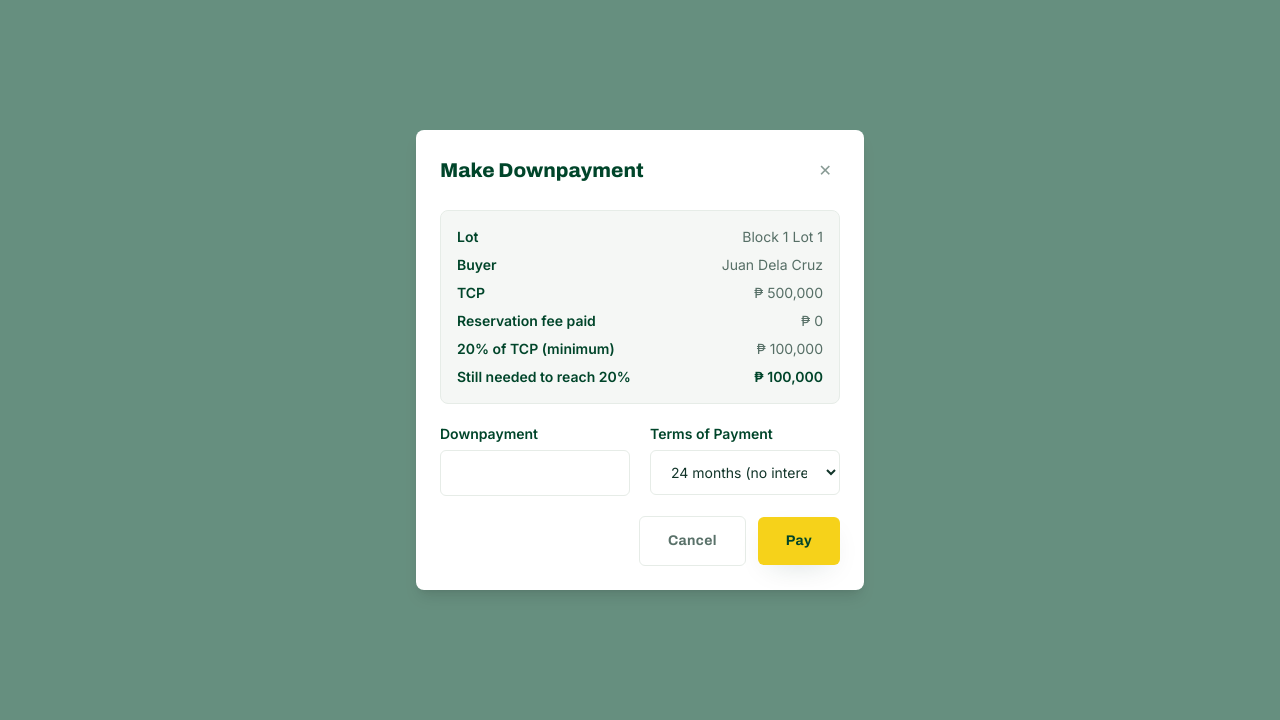
DownpaymentModal › requires terms of payment before saving
Type "100000" into the number field labelled "Downpayment" at (535, 473), box top-left (440, 450), bottom-right (630, 496)
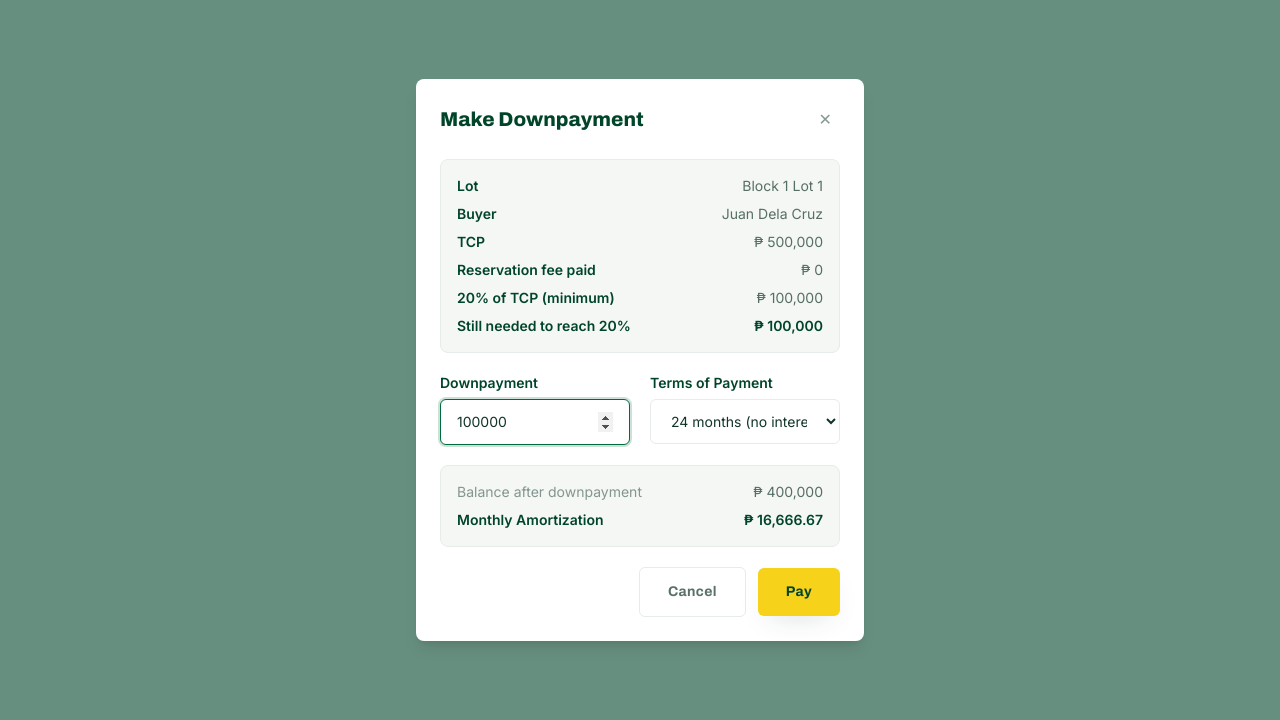
Select "Select terms…" in the dropdown labelled "Terms of Payment" at (745, 422), box top-left (650, 399), bottom-right (840, 444)
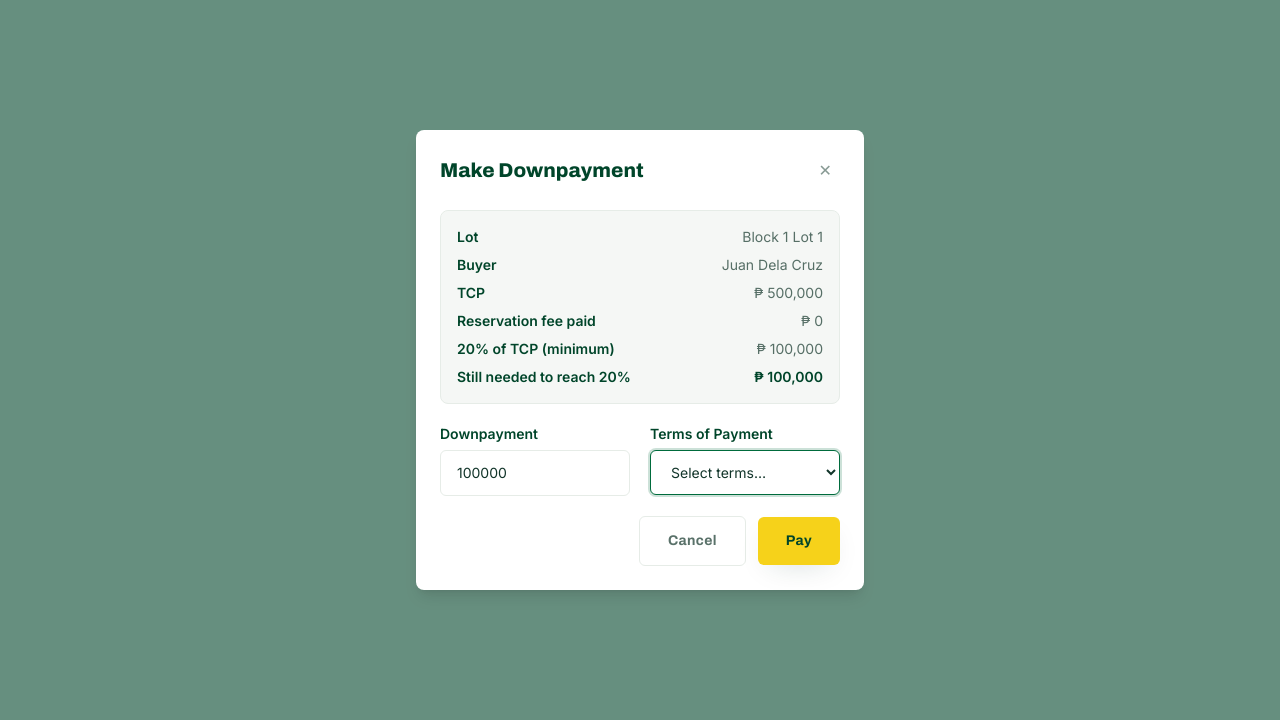
Click the button "Pay" at (799, 541), box top-left (758, 517), bottom-right (840, 565)
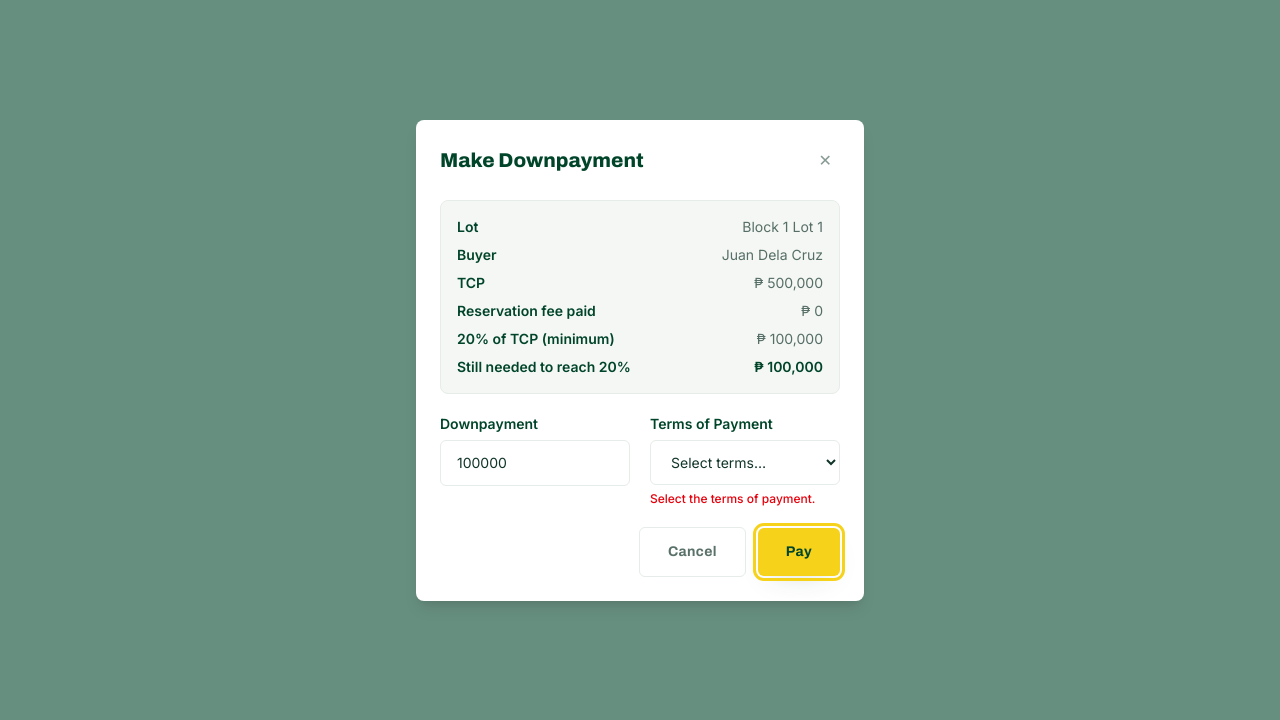
Check: the text "Select the terms of payment." is shown, box top-left (650, 490), bottom-right (840, 506)
